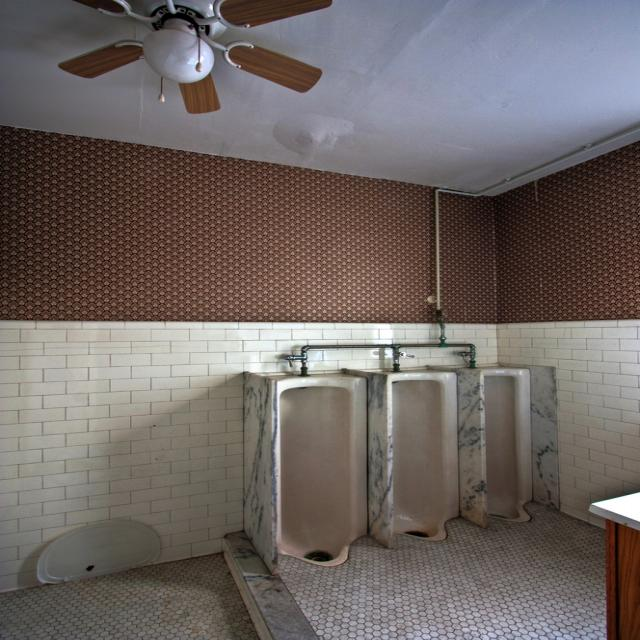Bulb: (53, 0, 332, 114)
